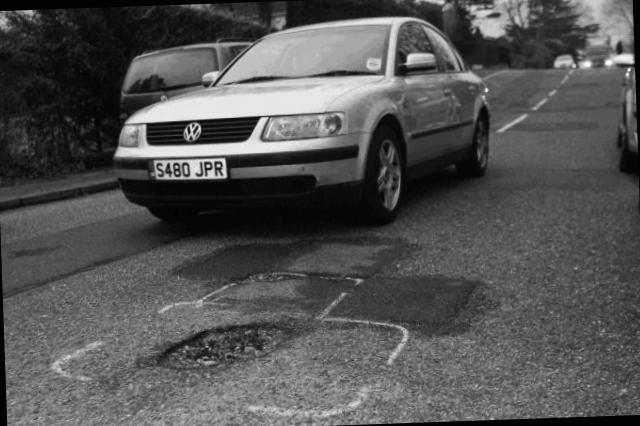Pothole: (160, 319, 296, 380)
